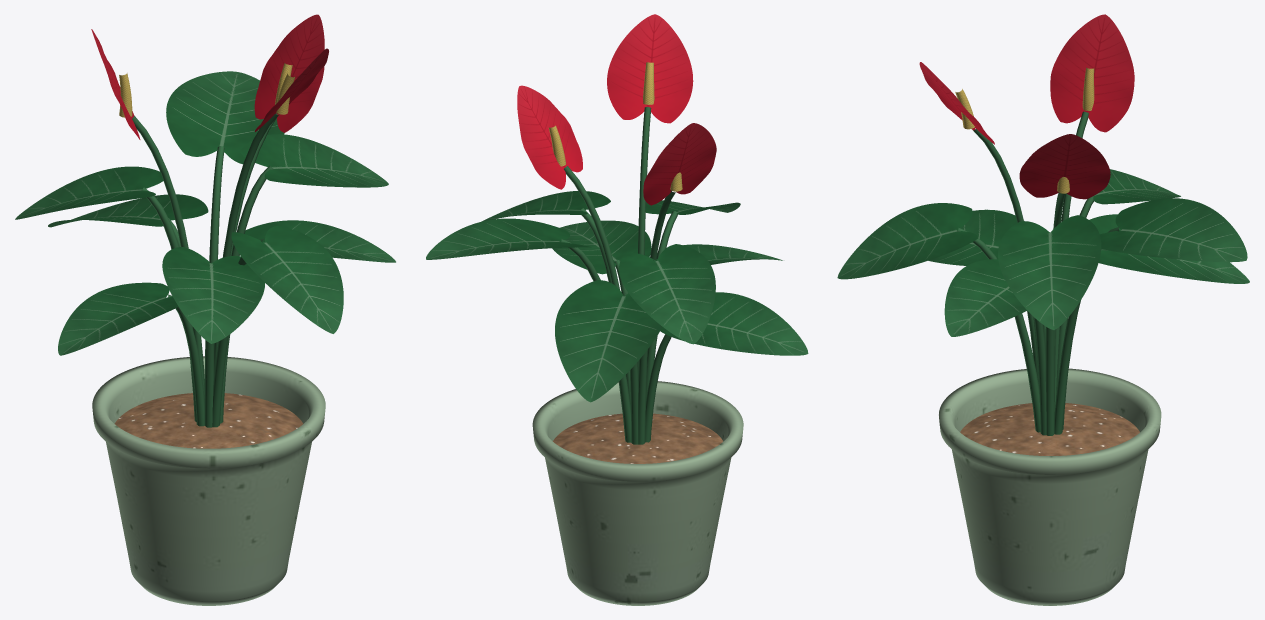
The model's file is anthurium.glb.
3 views of the same model, side by side, from view 1: azimuth 30°, elevation 25°; view 2: azimuth 150°, elevation 25°; view 3: azimuth 270°, elevation 25° (orthographic). The views are drawn at different scales.
Visible parts, largest first — view 1: piece-0, piece-1, piece-5, piece-4, piece-9, piece-10, piece-6, piece-2, piece-11, piece-3, piece-17, piece-7 (+3 smaller); view 2: piece-0, piece-8, piece-3, piece-15, piece-1, piece-6, piece-10, piece-5, piece-11, piece-13, piece-7, piece-17 (+3 smaller); view 3: piece-0, piece-2, piece-5, piece-13, piece-1, piece-4, piece-10, piece-11, piece-7, piece-8, piece-9, piece-17 (+2 smaller).
Boxes of the visible parts, left/top/right/bottom form: piece-0: left=92, top=356, right=325, bottom=605; piece-1: left=114, top=393, right=303, bottom=448; piece-5: left=166, top=71, right=284, bottom=164; piece-4: left=231, top=226, right=343, bottom=333; piece-9: left=162, top=247, right=264, bottom=343; piece-10: left=141, top=146, right=273, bottom=427; piece-6: left=58, top=282, right=178, bottom=355; piece-2: left=240, top=134, right=388, bottom=187; piece-11: left=254, top=14, right=324, bottom=132; piece-3: left=15, top=166, right=163, bottom=219; piece-17: left=132, top=113, right=279, bottom=397; piece-7: left=245, top=220, right=395, bottom=262; piece-0: left=532, top=381, right=743, bottom=605; piece-8: left=555, top=280, right=662, bottom=402; piece-3: left=619, top=244, right=715, bottom=344; piece-15: left=607, top=14, right=693, bottom=123; piece-1: left=553, top=413, right=723, bottom=463; piece-6: left=660, top=292, right=808, bottom=355; piece-10: left=561, top=208, right=677, bottom=444; piece-5: left=426, top=218, right=591, bottom=259; piece-11: left=517, top=85, right=582, bottom=189; piece-13: left=643, top=123, right=716, bottom=205; piece-7: left=552, top=220, right=651, bottom=274; piece-17: left=564, top=107, right=675, bottom=408; piece-0: left=939, top=368, right=1161, bottom=605; piece-2: left=998, top=215, right=1101, bottom=329; piece-5: left=1100, top=198, right=1247, bottom=262; piece-13: left=1050, top=14, right=1134, bottom=132; piece-1: left=960, top=403, right=1139, bottom=455; piece-4: left=837, top=203, right=977, bottom=279; piece-10: left=957, top=195, right=1119, bottom=435; piece-11: left=1019, top=134, right=1110, bottom=199; piece-7: left=944, top=259, right=1026, bottom=336; piece-8: left=1089, top=214, right=1249, bottom=283; piece-9: left=928, top=209, right=1024, bottom=265; piece-17: left=973, top=111, right=1088, bottom=411.
Size of the model in its own units: 0.284 by 0.4371 by 0.3047.
6 materials, 5 textured.
